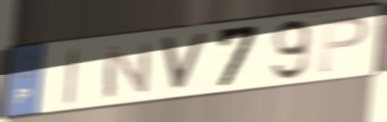7: (213, 23, 261, 91)
9: (269, 18, 314, 83)
I: (62, 44, 81, 108)
N: (101, 38, 155, 101)
P: (317, 13, 371, 75)
V: (157, 31, 212, 93)
